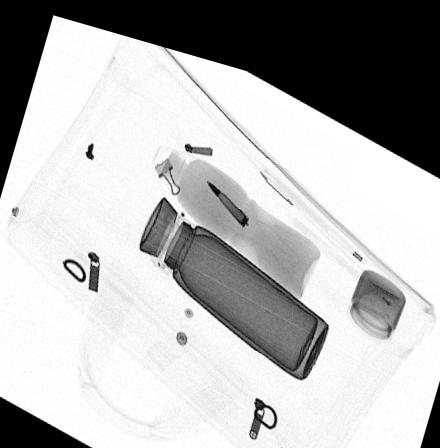Bullet: (204, 167, 248, 213)
